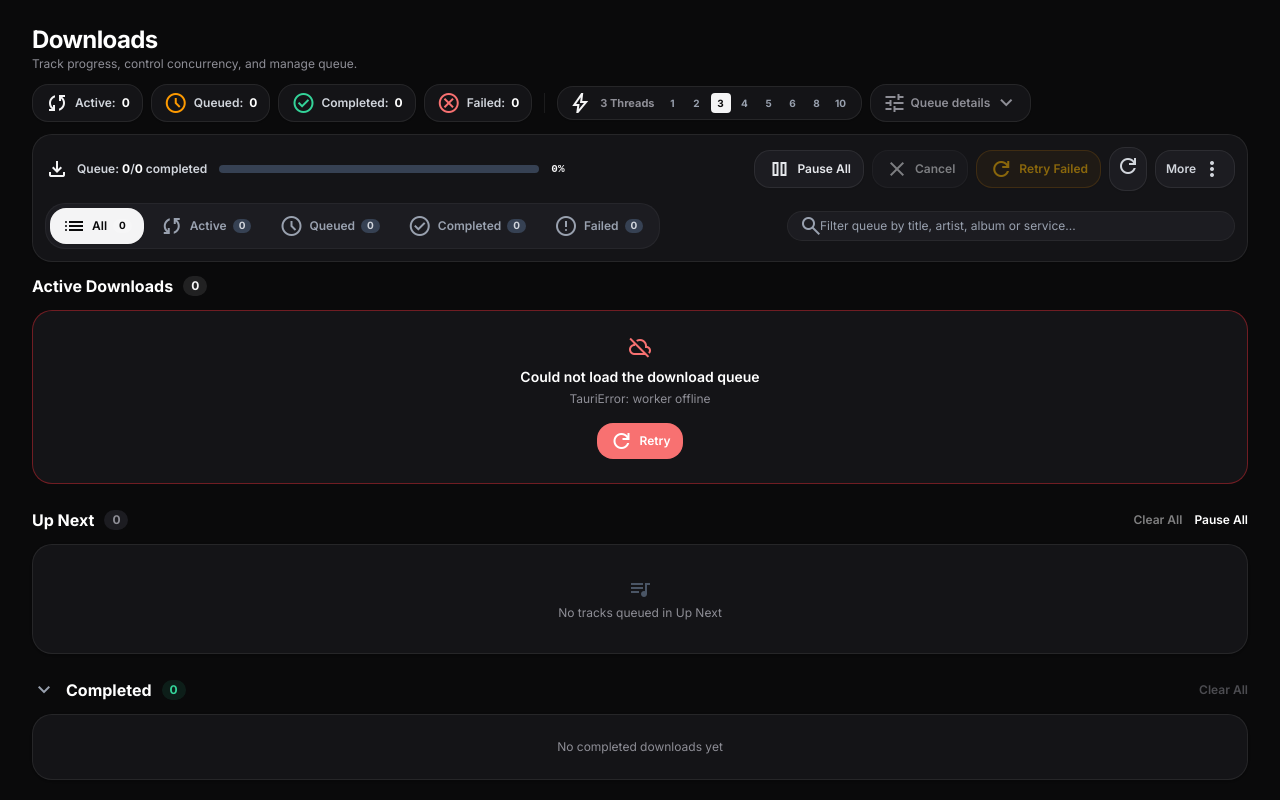
Test case: DownloadsView — estados de carga y error (auditoría 27) › muestra un error reintentable cuando la cola no se puede leer
Check: the element with test id "downloads-load-error" is shown, box [32,310,1248,484]
Check: the element with test id "downloads-load-error" shows "worker offline", box [569,391,711,406]
Click the button "Retry": (640, 441) [598,423,682,459]
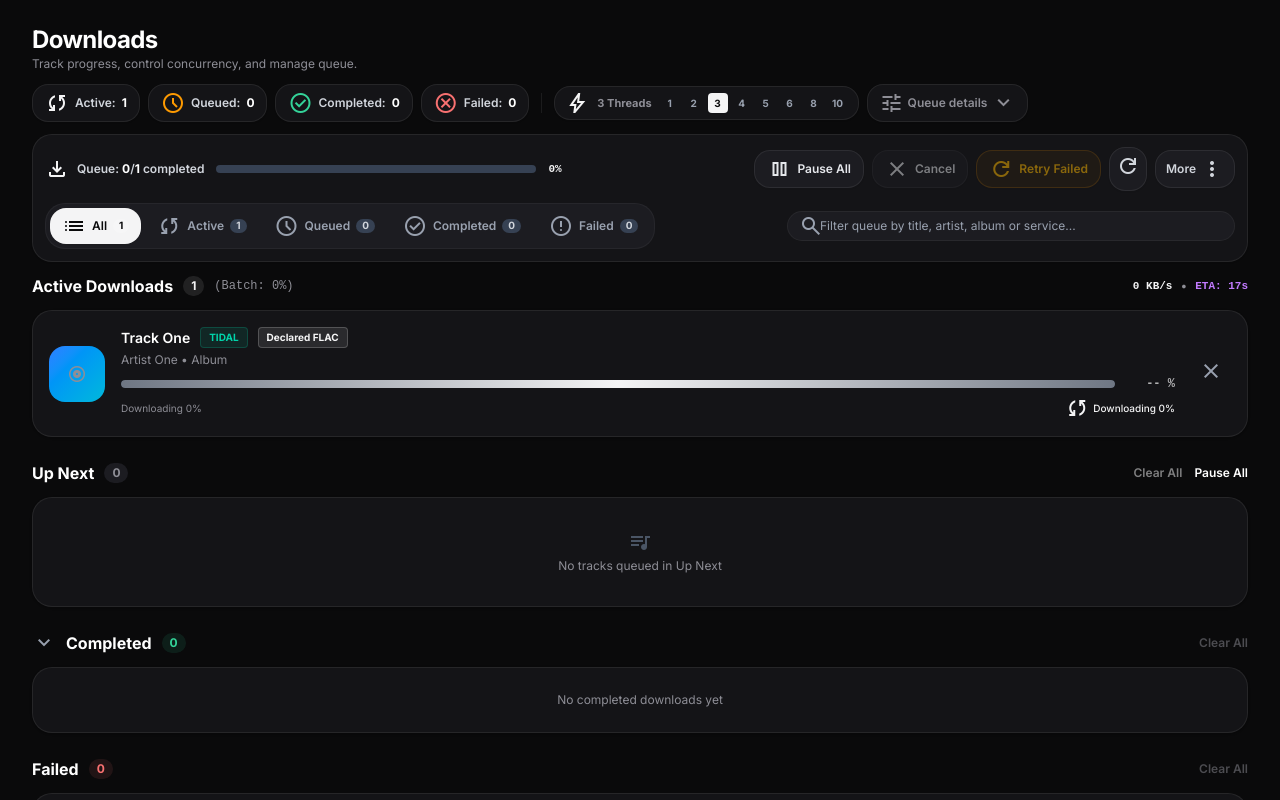
Check: the text "Track One" is shown, box [121,328,190,348]
